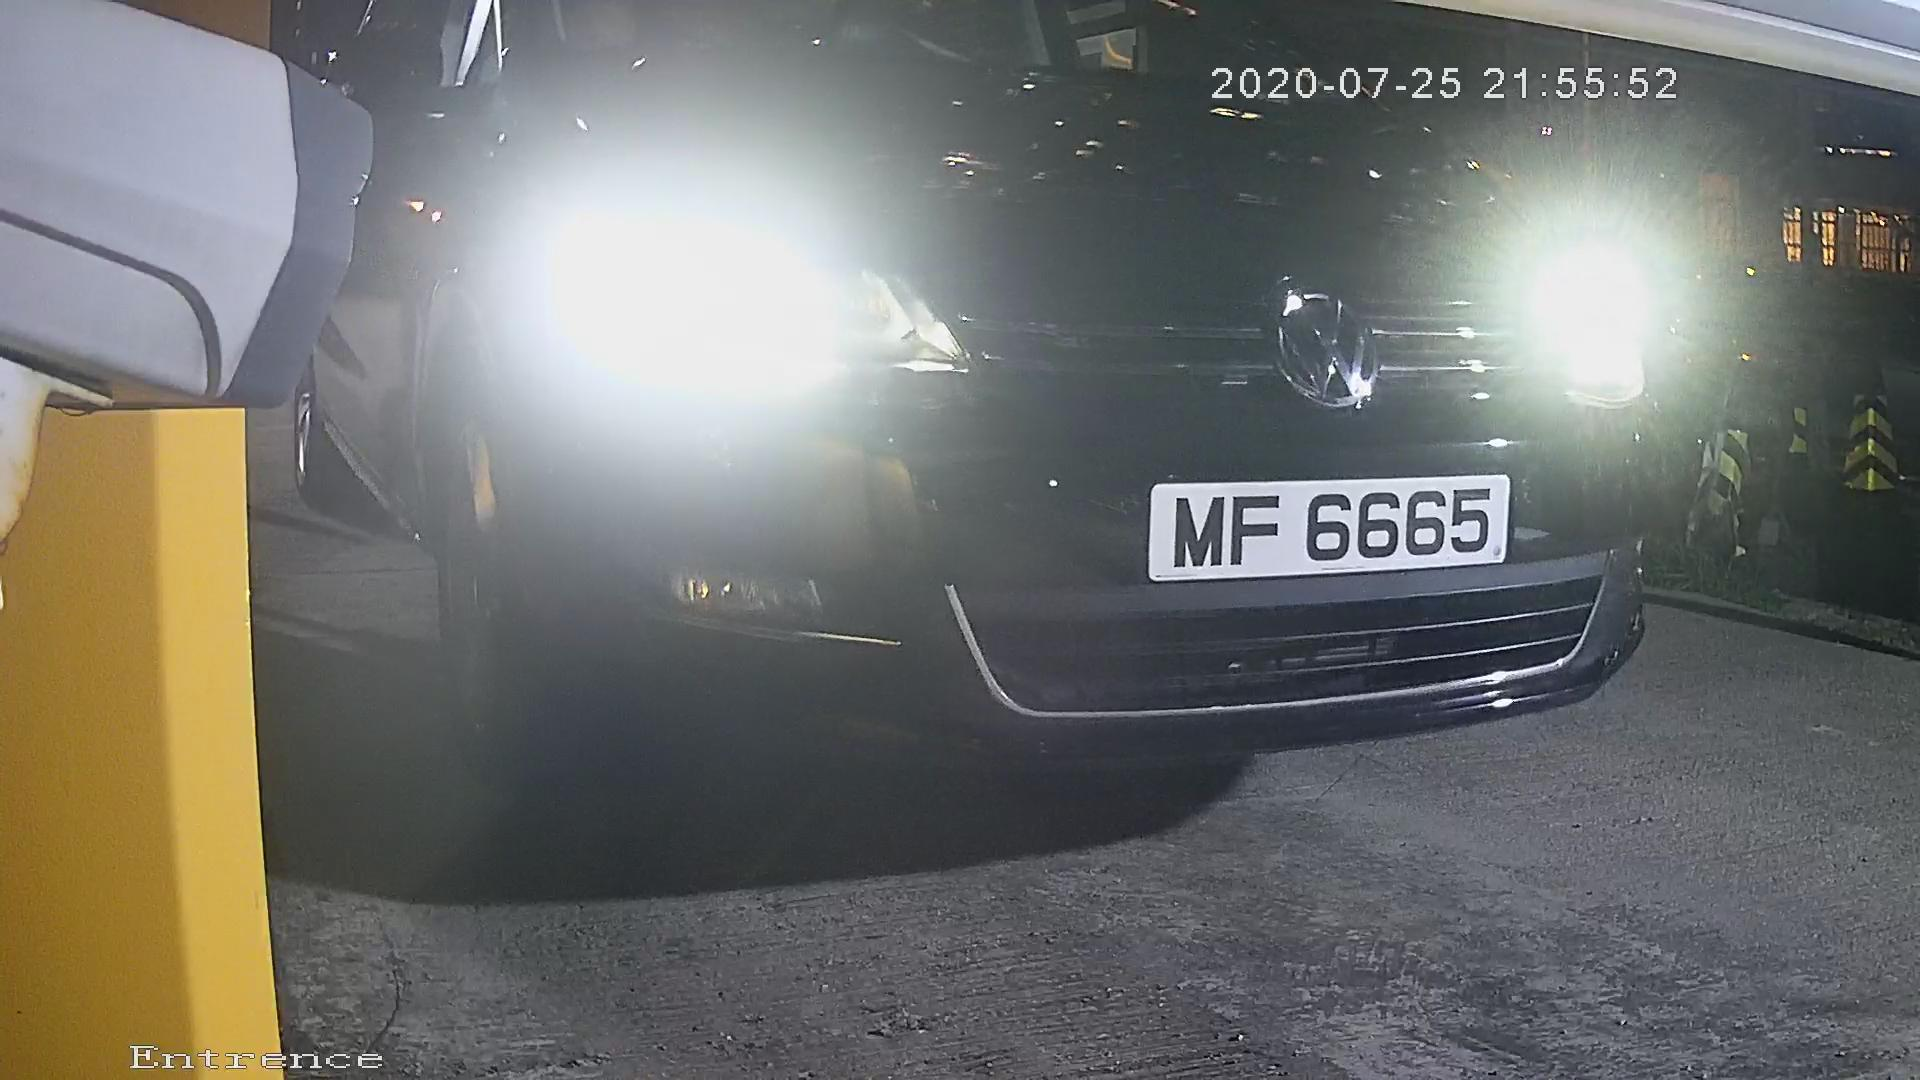privatecar: (361, 5, 1766, 844)
